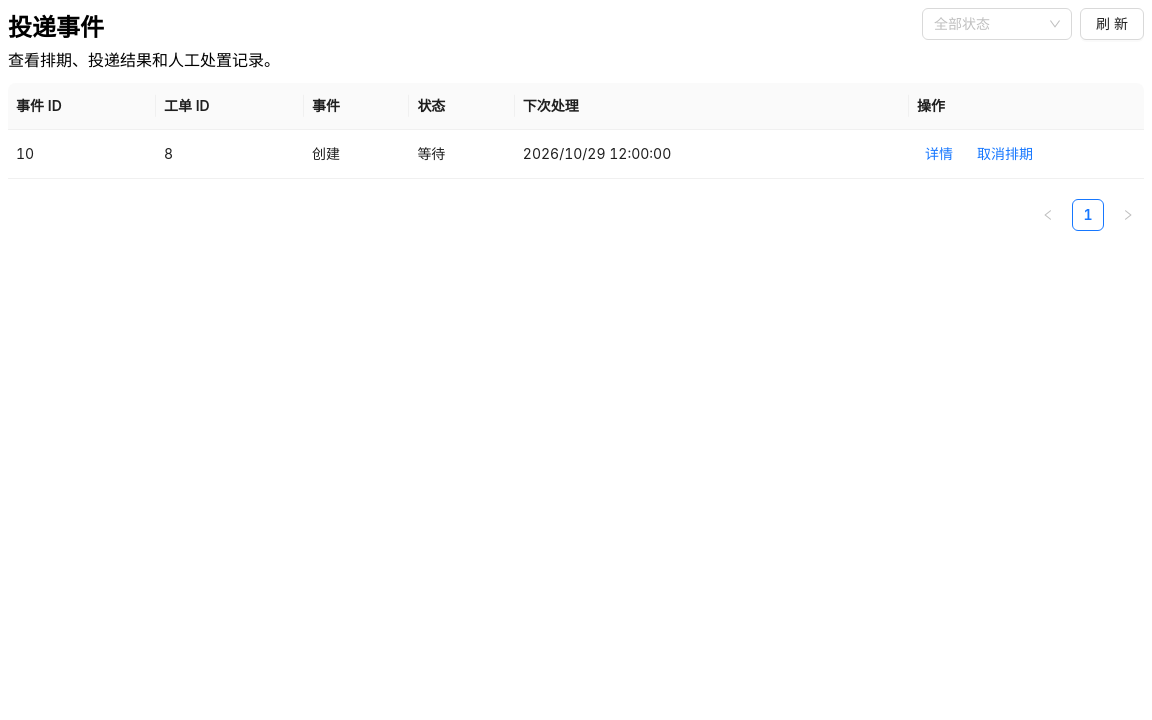
Test: 加载事件和脱敏详情，不展示消息、原始字段或审计原因
Click the button "详情". click: (939, 154)
box: [917, 142, 961, 166]
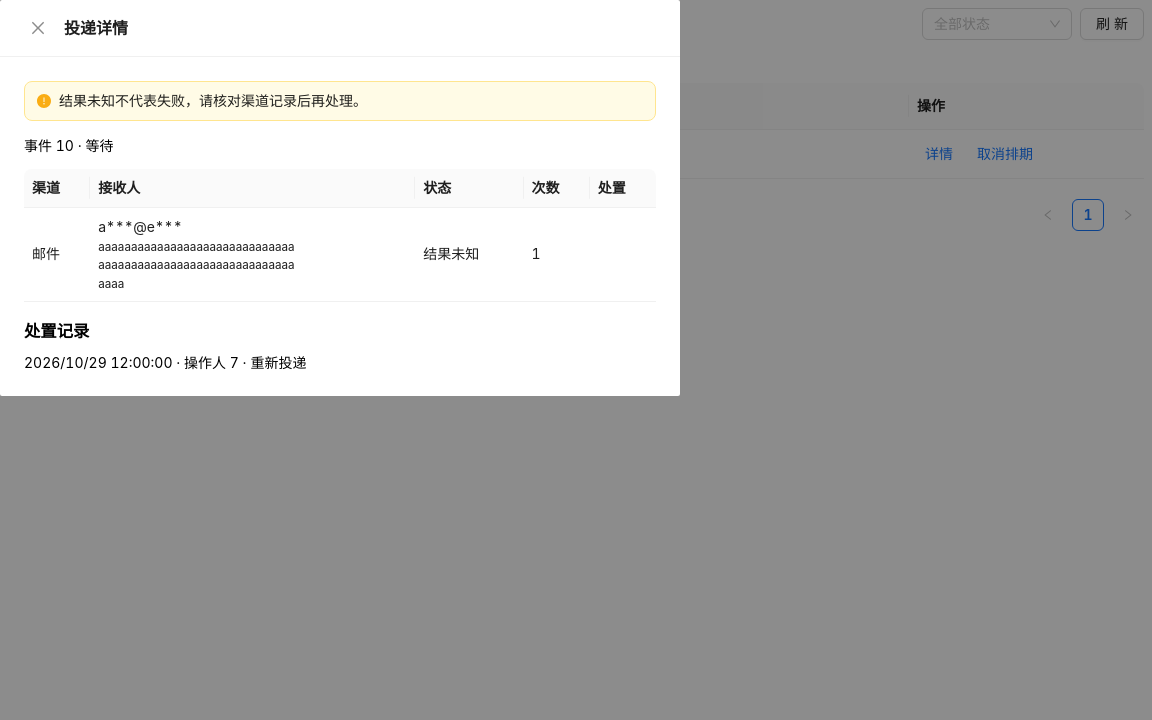
Expected: the text "a***@e***" is shown, [98, 218, 182, 235]
